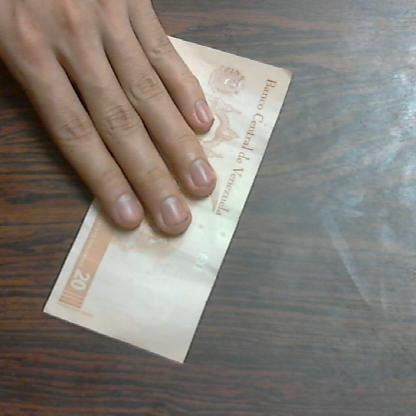twenty-back-vef: (39, 7, 295, 362)
